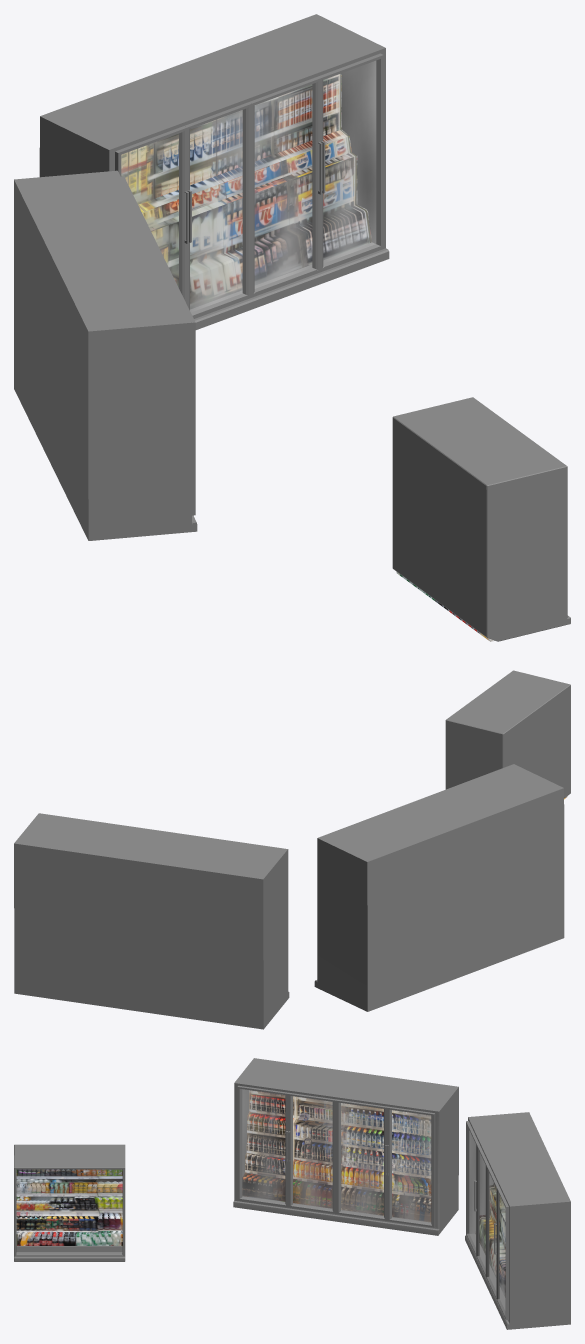
Rendered from vending_fridge_pack__lowpoly.glb.
3 renders of one model, top to bottom at view 1: azimuth 30°, elevation 25°; view 2: azimuth 150°, elevation 25°; view 3: azimuth 270°, elevation 25°, orthographic. The views are drawn at different scales.
Parts seen in each view (by area): view 1: Fridge1.001, Fridge1, Cube; view 2: Fridge1.001, Fridge1, Cube; view 3: Fridge1, Fridge1.001, Cube.
Part boxes in pixels (x1,y1,x2,y2): Fridge1.001: [39, 14, 389, 329]; Fridge1: [14, 170, 197, 540]; Cube: [392, 397, 570, 641]; Fridge1.001: [14, 813, 289, 1029]; Fridge1: [314, 764, 564, 1011]; Cube: [445, 670, 570, 799]; Fridge1: [233, 1058, 458, 1235]; Fridge1.001: [465, 1112, 570, 1329]; Cube: [14, 1144, 125, 1261].
Bounding box in the file's own units: 26.39 × 10.32 × 41.97.
4 materials, 3 textured.
